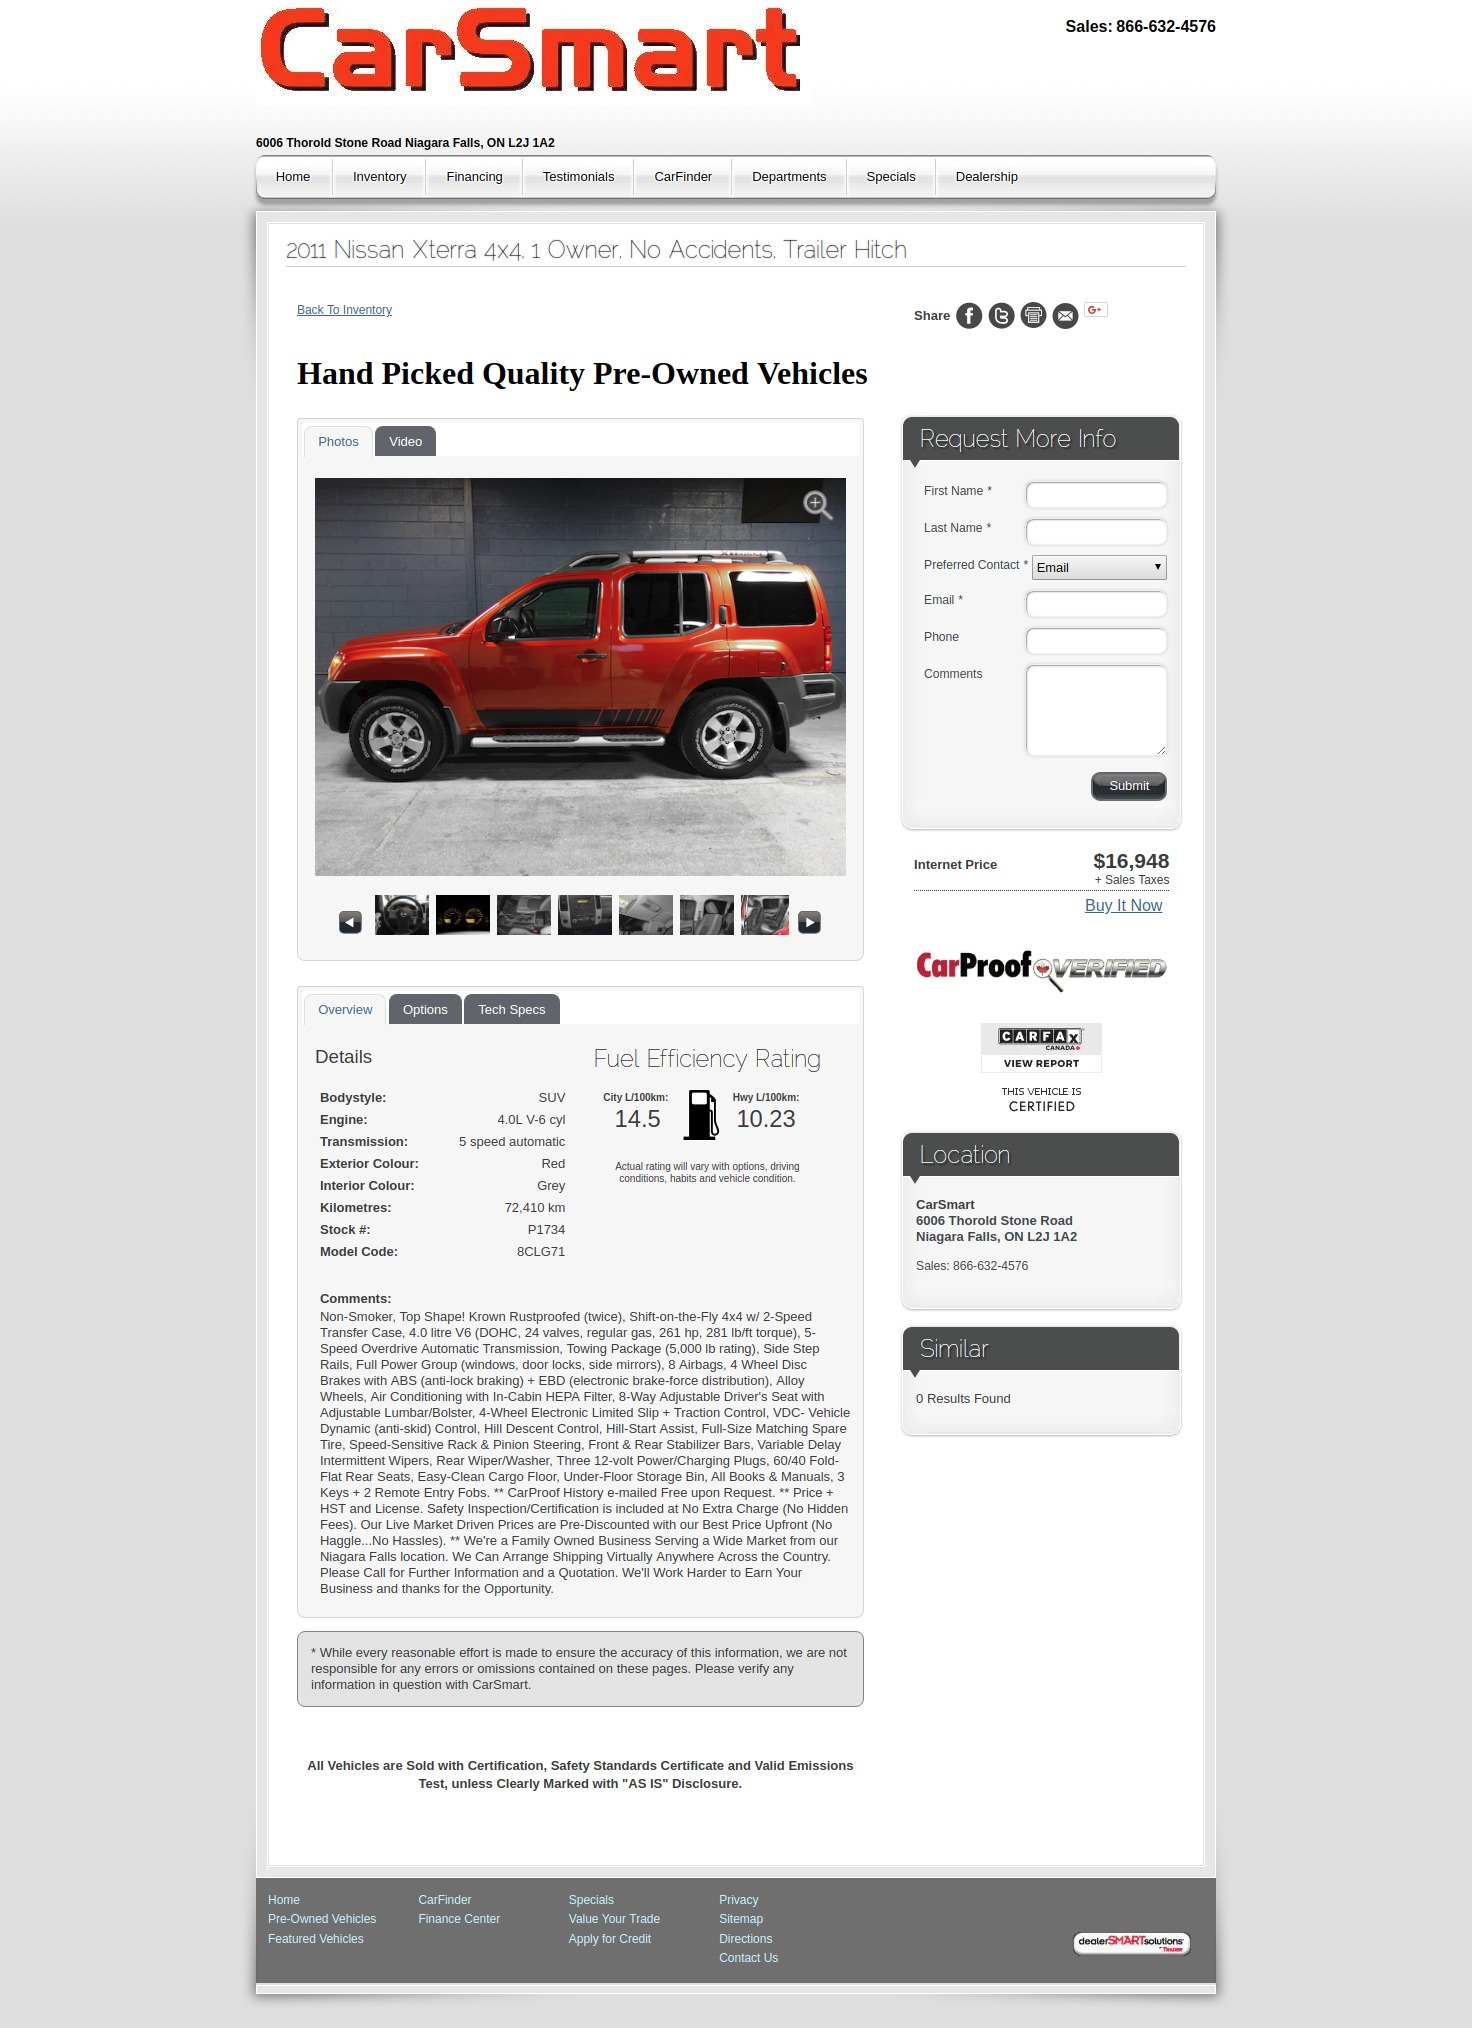car: (798, 912, 822, 935)
